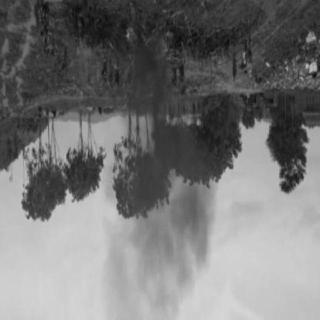Smoke: (134, 213, 180, 300), (176, 188, 204, 260), (134, 67, 163, 113), (158, 123, 176, 159)
other: (237, 90, 279, 110), (34, 4, 56, 42), (99, 59, 119, 91), (168, 63, 185, 94)
